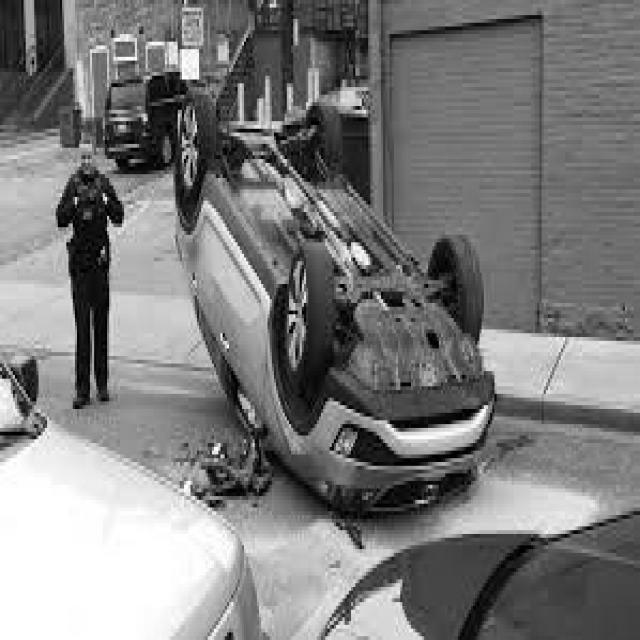severe: (170, 67, 500, 510)
